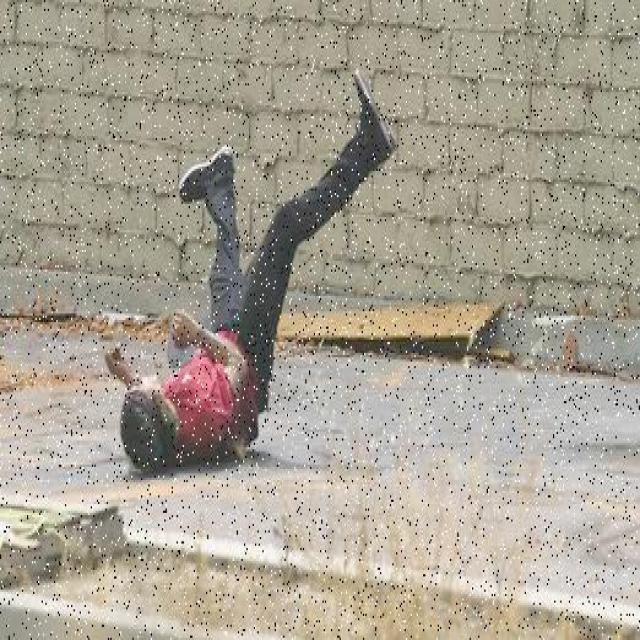fall: (117, 99, 380, 456)
